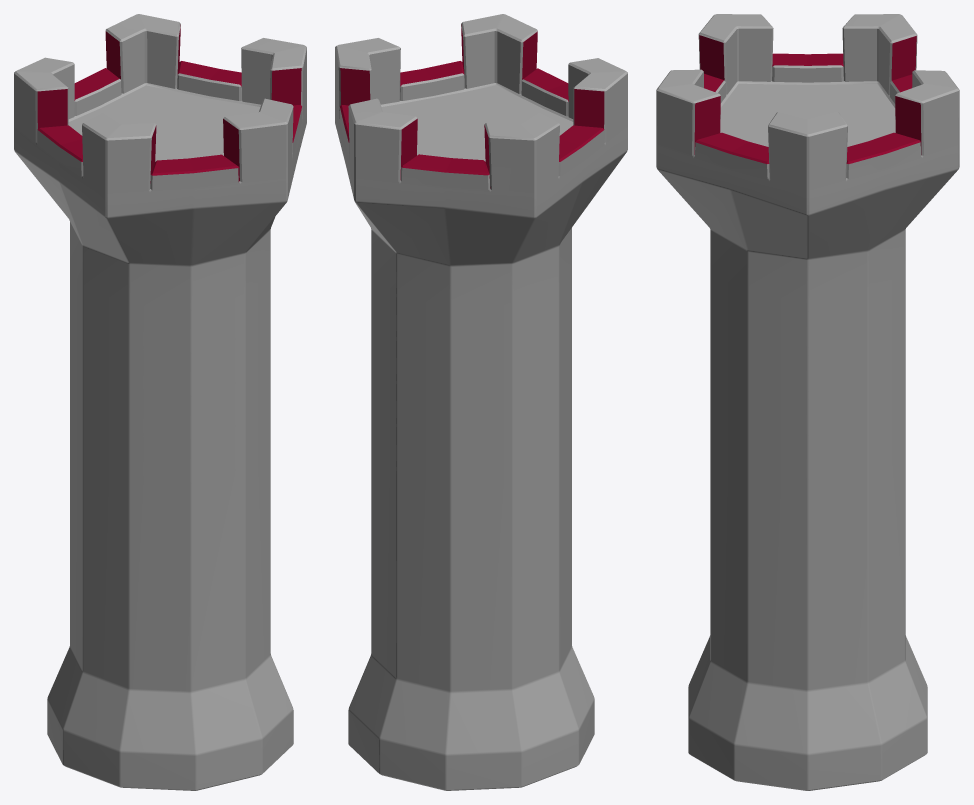
File: TowerRed.fbx
The picture shows the model from 3 angles, left to right: view 1: azimuth 30°, elevation 25°; view 2: azimuth 150°, elevation 25°; view 3: azimuth 270°, elevation 25°; orthographic projection.
Parts seen in each view (by area): view 1: pCylinder1; view 2: pCylinder1; view 3: pCylinder1.
Part boxes in pixels (x1,y1,x2,y2): pCylinder1: (14, 14, 306, 790); pCylinder1: (335, 14, 627, 790); pCylinder1: (656, 14, 959, 790).
Bounding box in the file's own units: 5.61 × 14.33 × 5.87.
